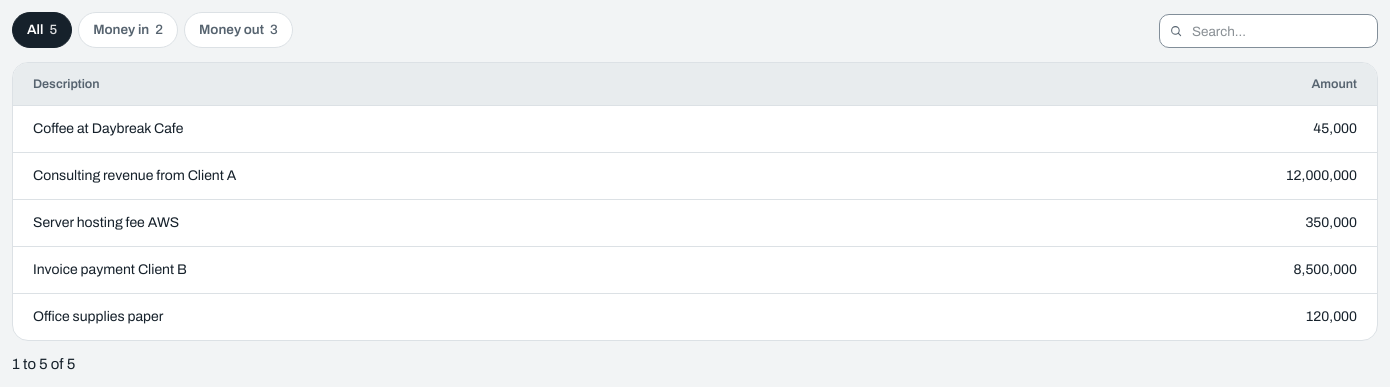
Scenario: DataTable › filters rows via filter chips
Expected: the button "Money out 3" is shown, [184,12,293,48]
# Click Money in
Click the button "Money in 2". click: (128, 30)
box: [78,12,178,48]
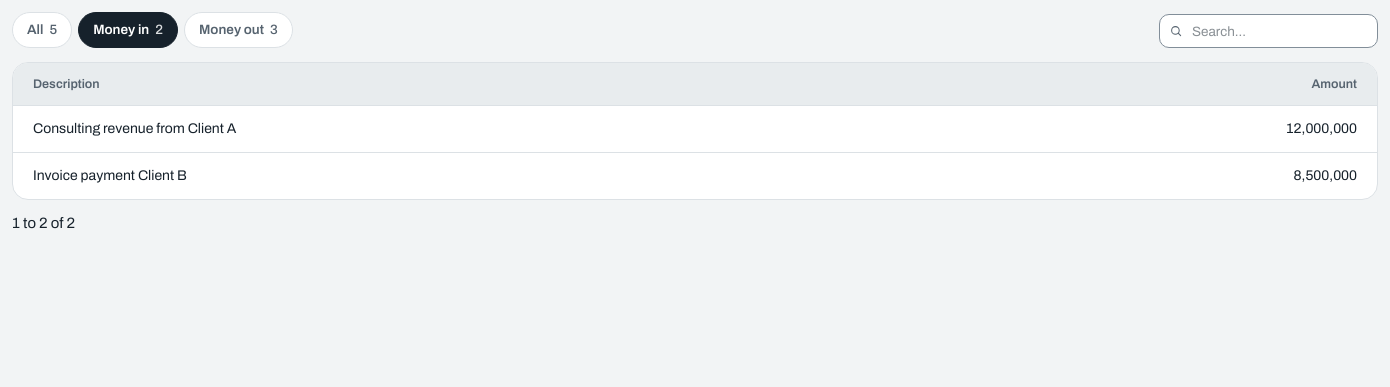
Expected: the text "Consulting revenue from Client A" is shown, [33,121,236,136]
Now the text "Coffee at Daybreak Cafe" is gone
